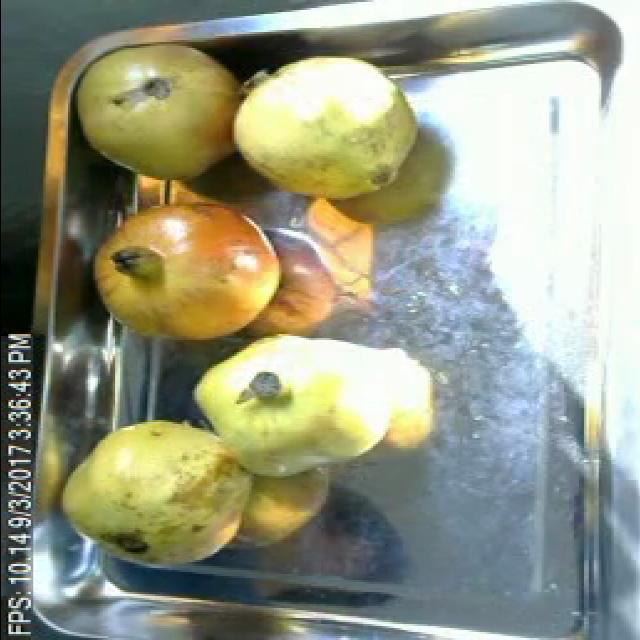fruit: (182, 324, 412, 492), (82, 176, 298, 354), (44, 412, 266, 574), (220, 50, 432, 214), (64, 34, 258, 192)
